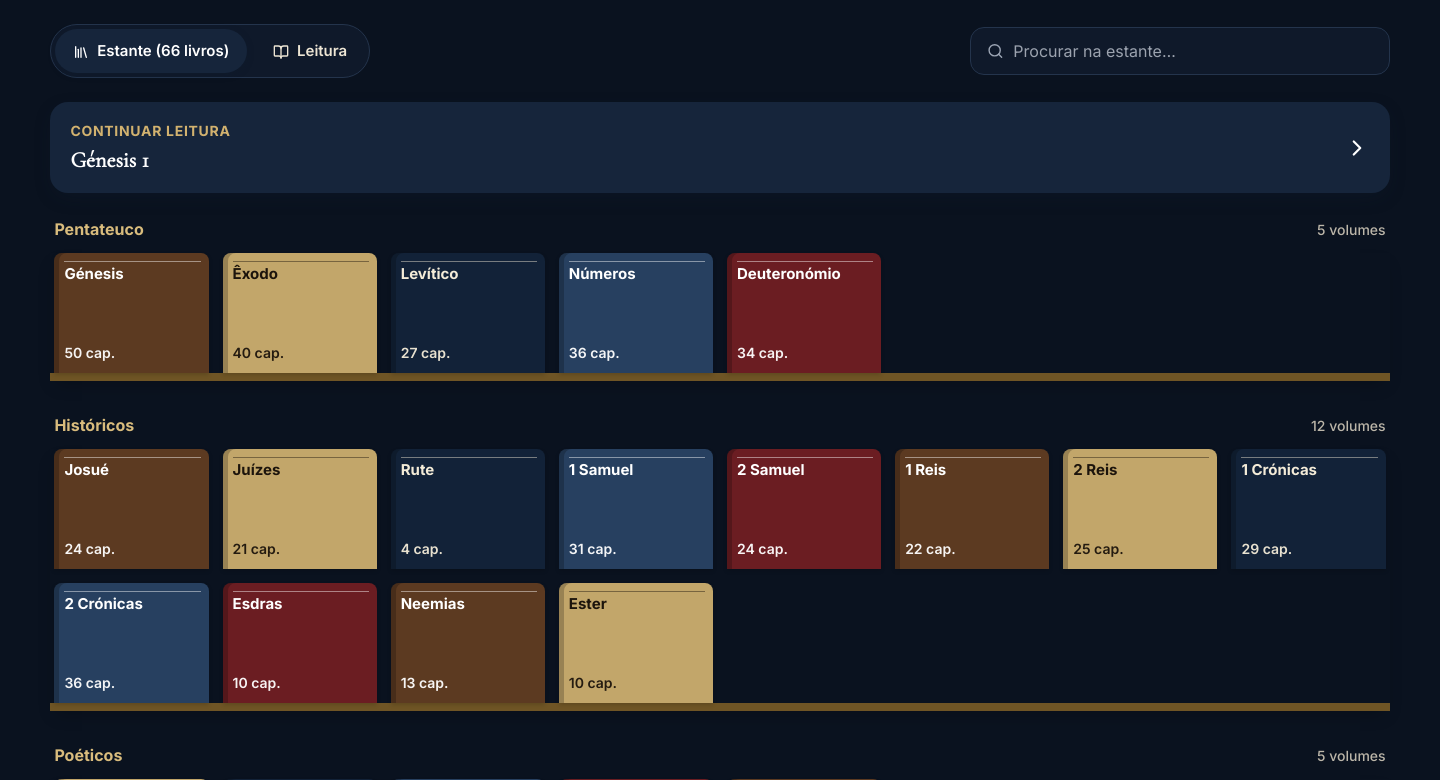
Test case: Bíblia: Estante (66 Livros) e Leitura Direção A › alterna para o modo leitor e exibe a barra flutuante ao tocar num versículo
# Clica no botão de leitura
Click the button "Leitura" at (310, 51), box [255,29,365,73]
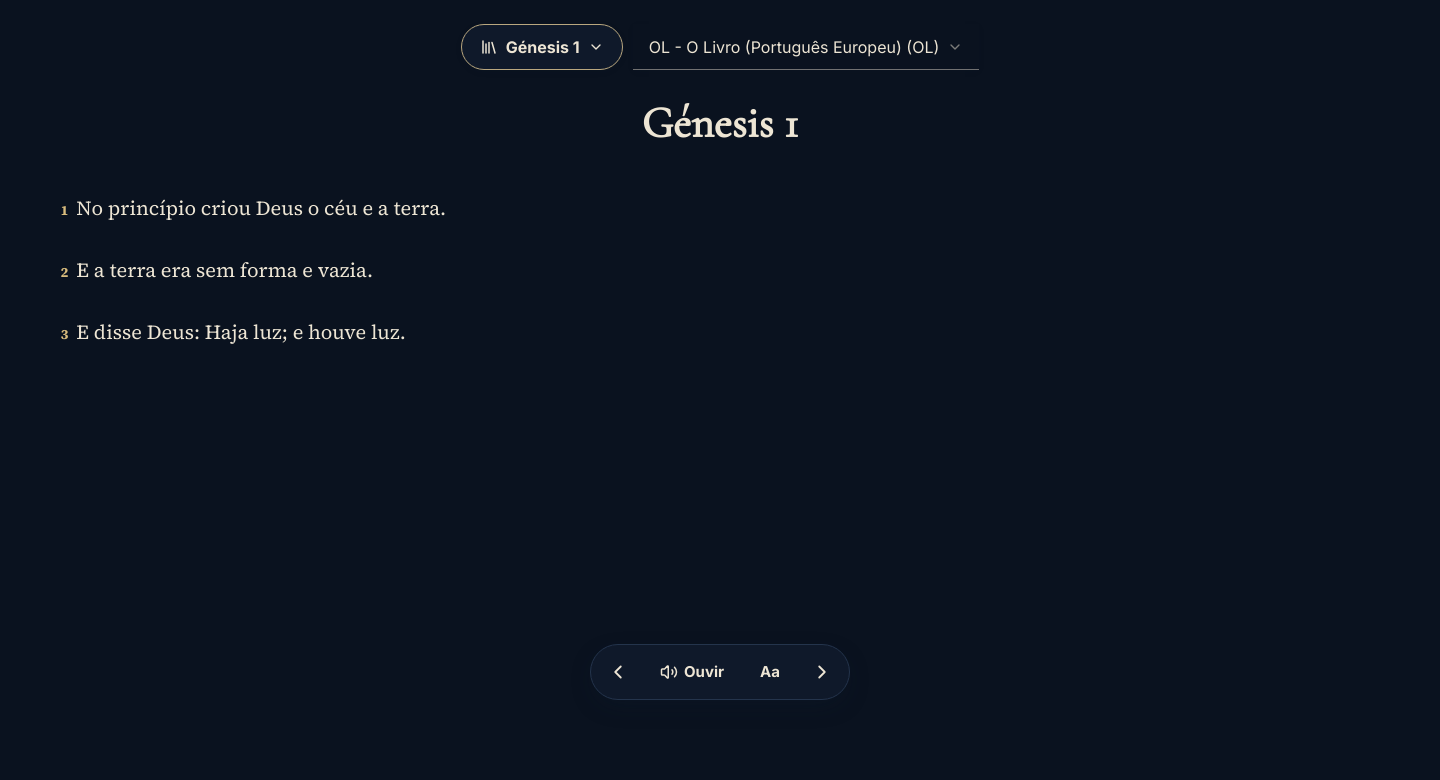
Result: the text "No princípio criou Deus o céu e a terra." is shown
# Toca no versículo 1
Click the text "No princípio criou Deus o céu e a terra." at (261, 208), box [76,194,446,222]
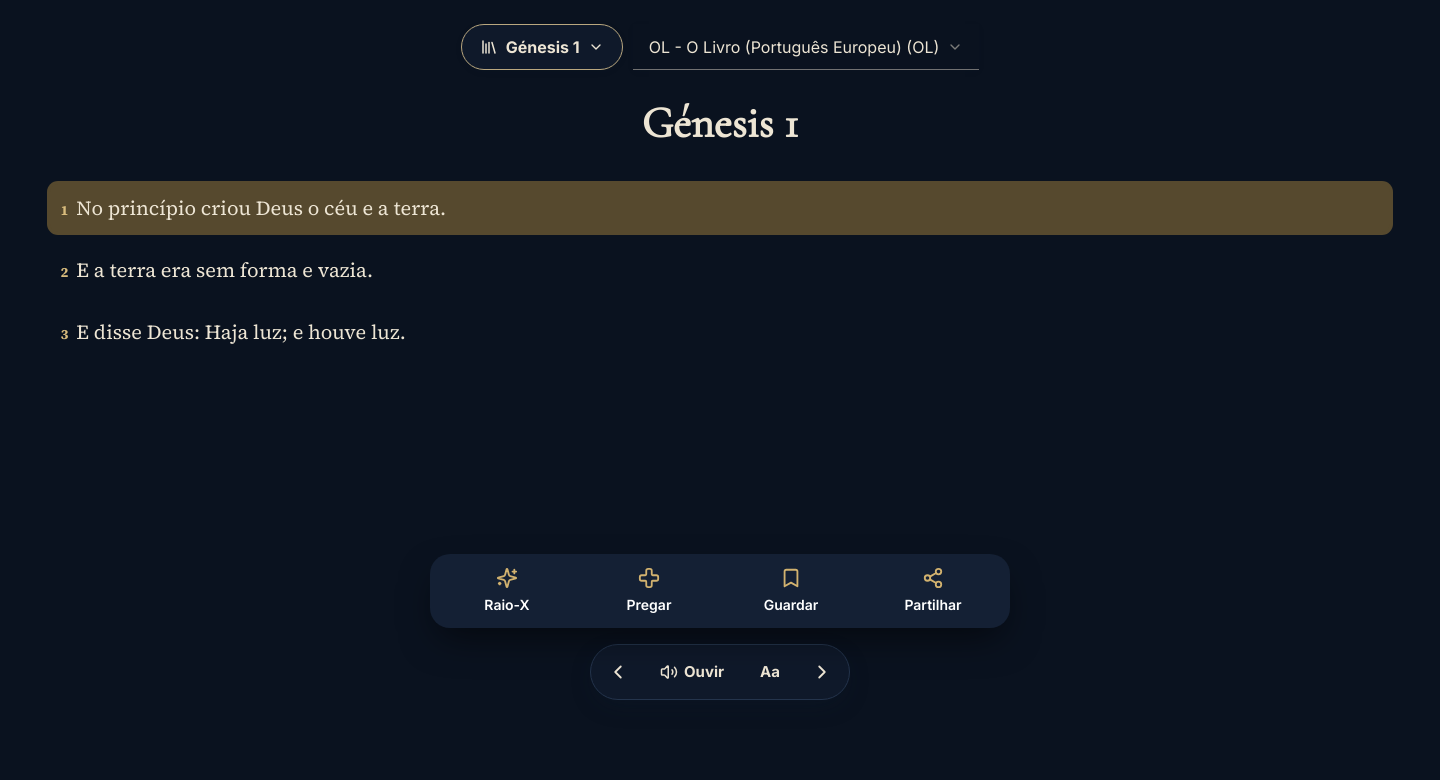
Result: the dialog named "ações do versículo" is shown at [430,554,1010,628]
Result: the button "Raio-X" is shown at [436,562,578,620]
Result: the button "Pregar" is shown at [578,562,720,620]
